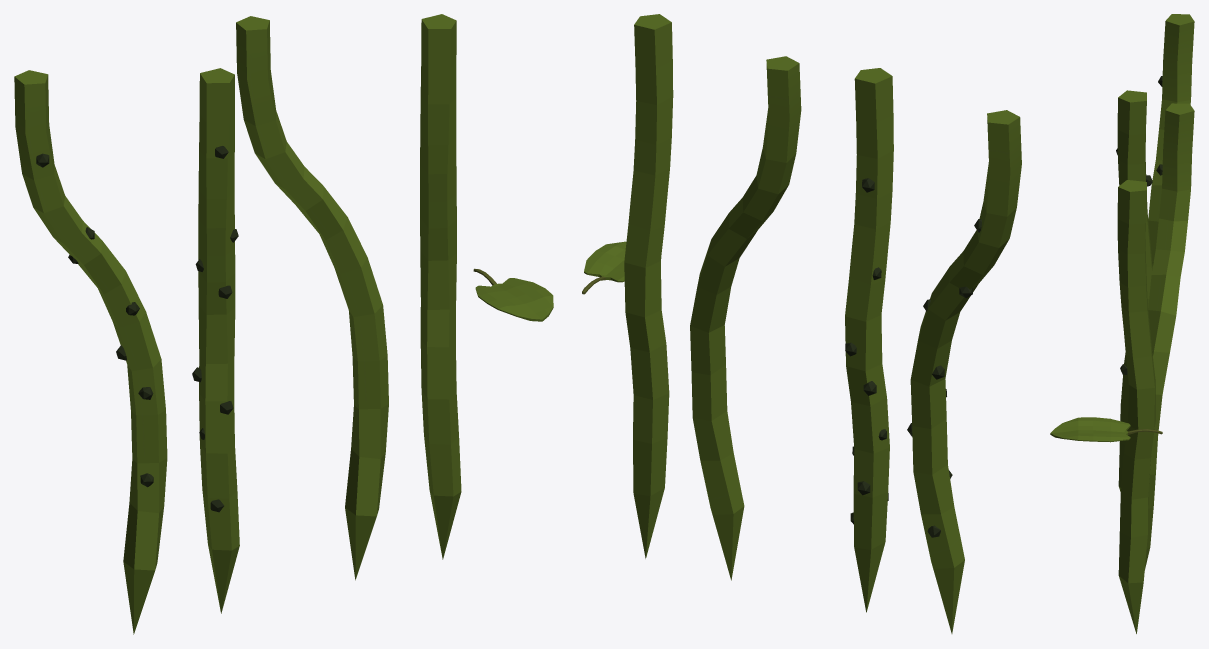
Rendered from Plants.fbx.
3 renders of one model, left to right at view 1: azimuth 30°, elevation 25°; view 2: azimuth 150°, elevation 25°; view 3: azimuth 270°, elevation 25°, orthographic. The views are drawn at different scales.
Parts seen in each view (by area): view 1: pasted__pCylinderShape2, pCylinderShape2, pasted__pCylinderShape3, pCylinderShape3, pCube1; view 2: pasted__pCylinderShape3, pCylinderShape3, pasted__pCylinderShape2, pCylinderShape2, pCube1; view 3: pCylinderShape3, pCylinderShape2, pasted__pCylinderShape2, pasted__pCylinderShape3, pCube1.
Boxes of the visible parts, box(x1,y1,x2,y2) form: pasted__pCylinderShape2: box(14, 70, 167, 634); pCylinderShape2: box(236, 16, 388, 580); pasted__pCylinderShape3: box(192, 68, 239, 613); pCylinderShape3: box(420, 14, 461, 559); pCube1: box(473, 268, 553, 321); pasted__pCylinderShape3: box(845, 68, 893, 612); pCylinderShape3: box(624, 14, 673, 558); pasted__pCylinderShape2: box(907, 110, 1021, 633); pCylinderShape2: box(690, 56, 801, 580); pCube1: box(582, 241, 661, 294); pCylinderShape3: box(1117, 180, 1155, 633); pCylinderShape2: box(1144, 103, 1194, 570); pasted__pCylinderShape2: box(1148, 14, 1194, 265); pasted__pCylinderShape3: box(1116, 90, 1152, 492); pCube1: box(1050, 417, 1162, 442).
Size of the model in its own units: 112 by 125 by 35.54.
Materials: 2 (2 with a texture image).
